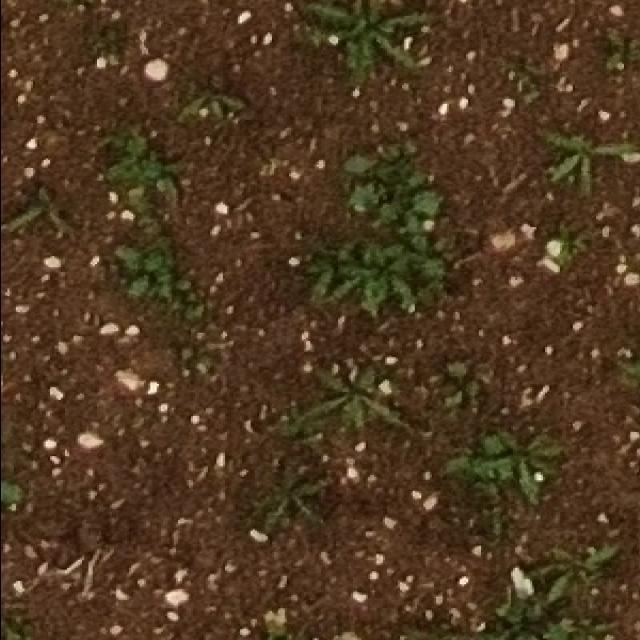cirse: (291, 2, 446, 94), (298, 3, 454, 86), (291, 4, 438, 91), (284, 347, 385, 432), (478, 454, 584, 532), (477, 424, 586, 499), (442, 435, 551, 509), (303, 340, 406, 418), (520, 117, 624, 192), (507, 510, 612, 583), (302, 375, 396, 456), (514, 129, 609, 207), (527, 125, 625, 199), (535, 554, 636, 625), (545, 551, 640, 619), (242, 452, 338, 519), (256, 484, 351, 550), (255, 474, 344, 541), (325, 245, 398, 315), (340, 256, 412, 326), (325, 258, 397, 328), (286, 259, 376, 311), (295, 266, 379, 317), (282, 260, 367, 309), (163, 76, 235, 126), (167, 83, 237, 133), (179, 81, 246, 131)
